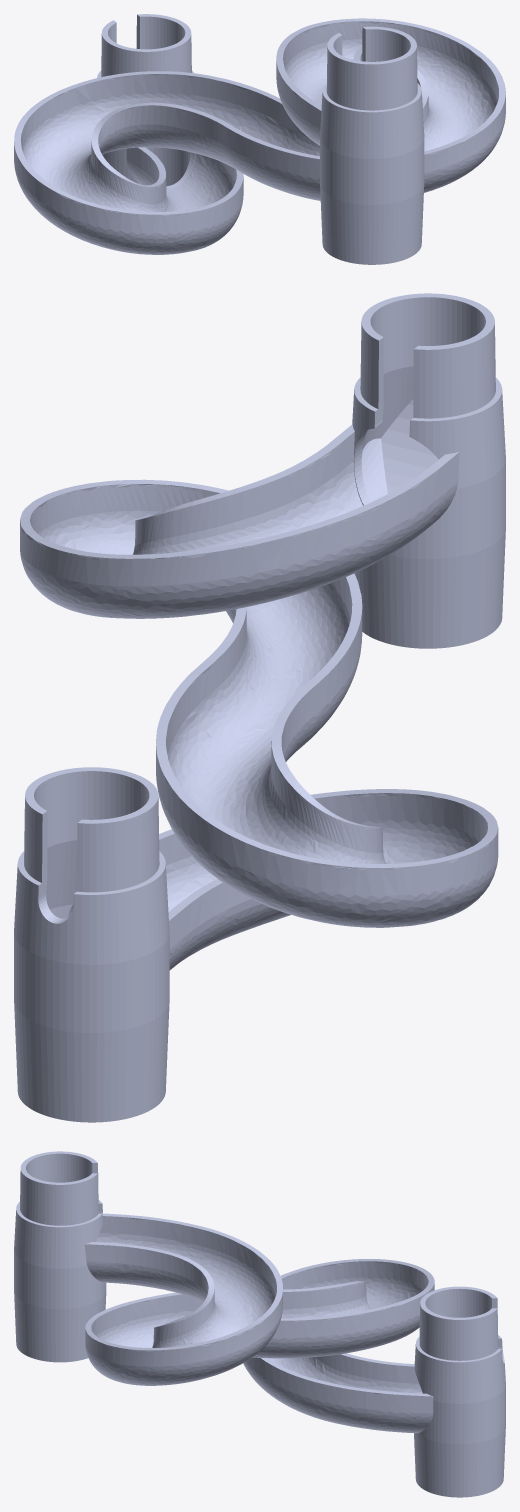
The model's file is Cycloid2Loop.FBX.
3 views of the same model, one above another, from view 1: azimuth 30°, elevation 25°; view 2: azimuth 150°, elevation 25°; view 3: azimuth 270°, elevation 25° (orthographic). The views are drawn at different scales.
Parts seen in each view (by area): view 1: Cycloid_2_loop.SLDPRT|:|17D090AC4E58455D09AB474FD146E9E90761; view 2: Cycloid_2_loop.SLDPRT|:|17D090AC4E58455D09AB474FD146E9E90761; view 3: Cycloid_2_loop.SLDPRT|:|17D090AC4E58455D09AB474FD146E9E90761.
Boxes of the visible parts, x1,y1,x2,y2 form: Cycloid_2_loop.SLDPRT|:|17D090AC4E58455D09AB474FD146E9E90761: (14,14,505,264); Cycloid_2_loop.SLDPRT|:|17D090AC4E58455D09AB474FD146E9E90761: (14,293,505,1122); Cycloid_2_loop.SLDPRT|:|17D090AC4E58455D09AB474FD146E9E90761: (14,1151,505,1497).
Size of the model in its own units: 5.06 by 6.5 by 4.53.
